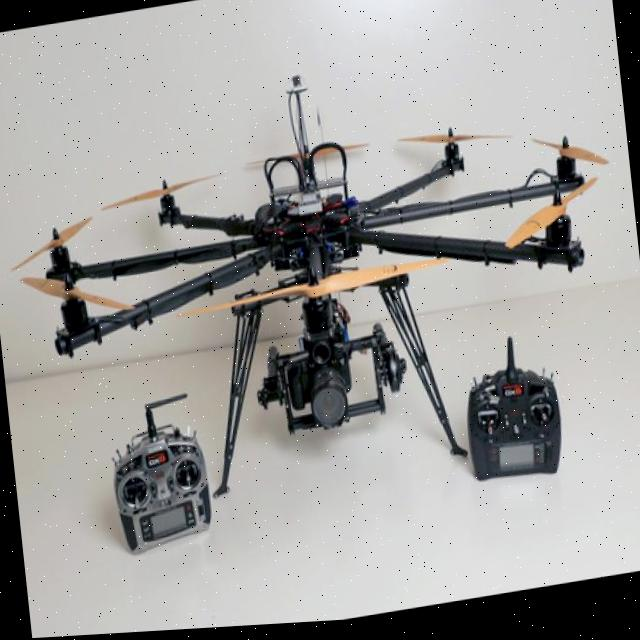drone: (12, 87, 633, 451)
